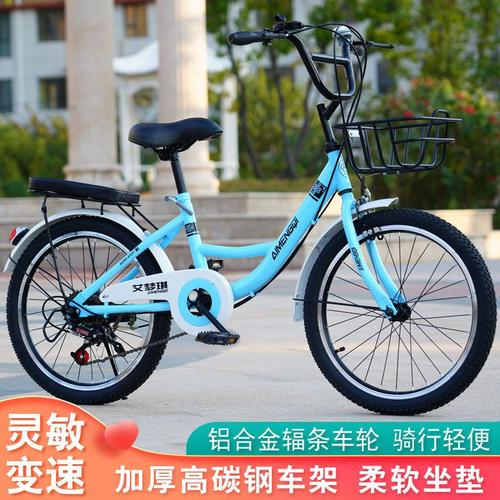单车: (10, 17, 499, 417)
